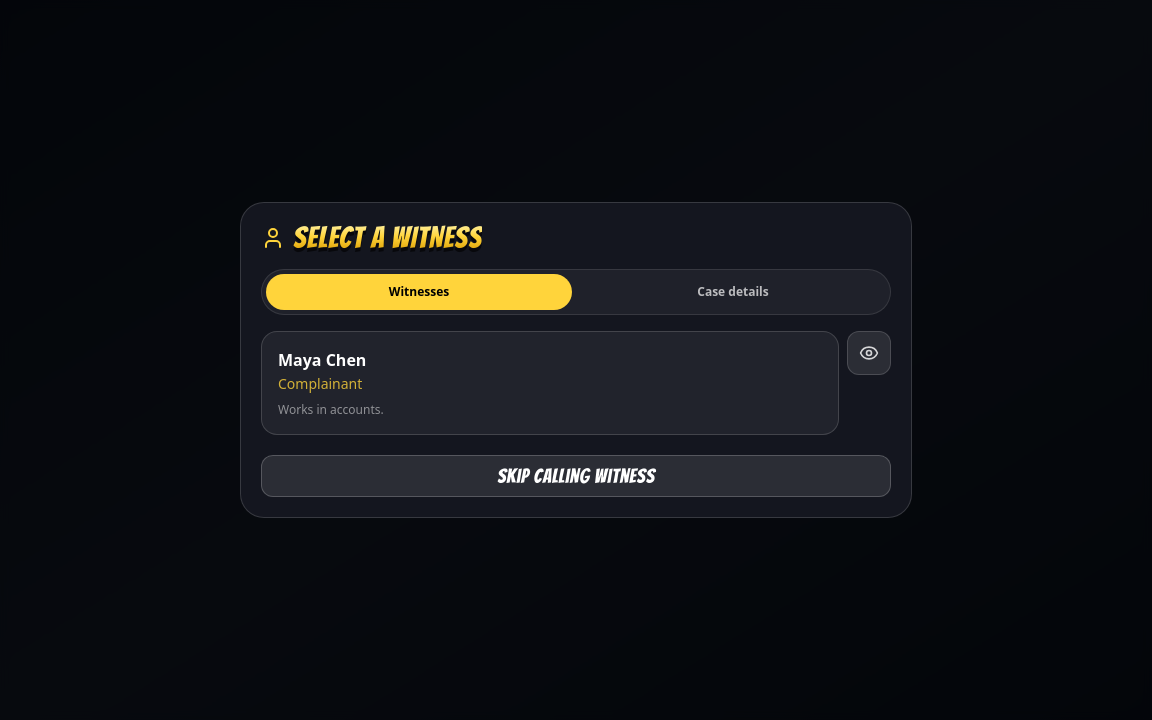
Test case: case details inside the trial pop-ups › shows a Case details tab with the case, relief and every witness
The width and height of the screenshot is (1152, 720).
Click the tab "Case details" at [733, 292], box [580,274,886,310]
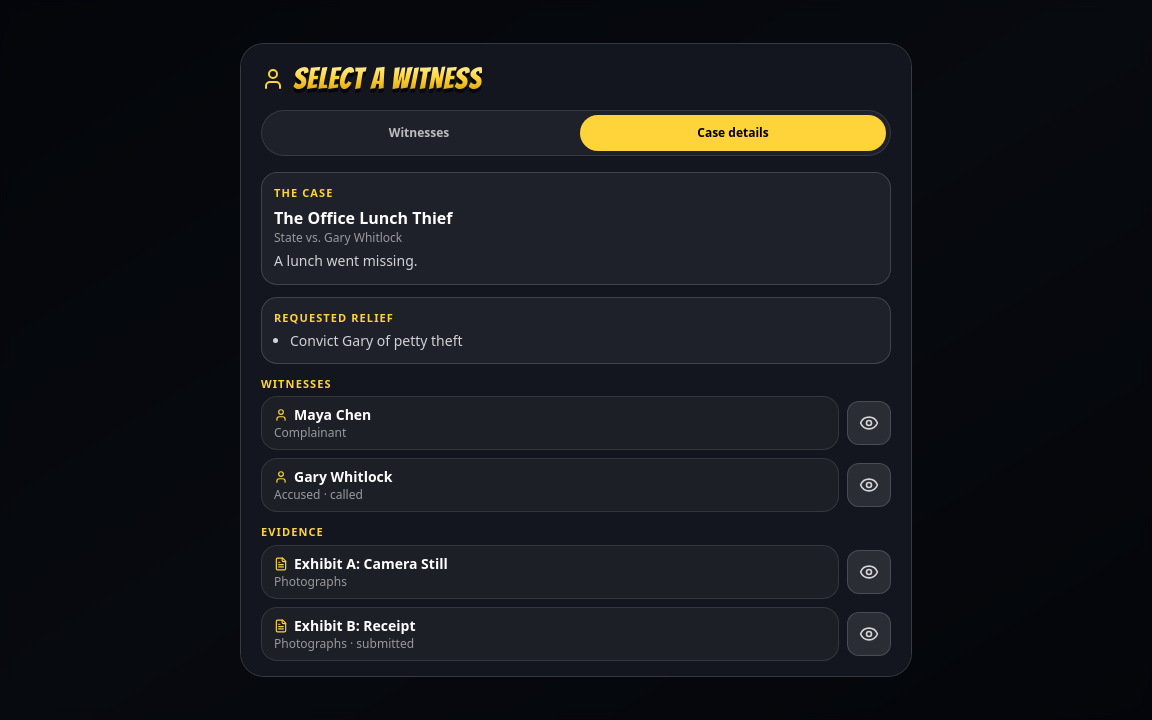
Result: the text "A lunch went missing." is shown at [274,251,418,270]
Result: the list item "Convict Gary of petty theft" is shown at [290,331,462,350]
Result: the text "Gary Whitlock" is shown at [274,468,392,486]
